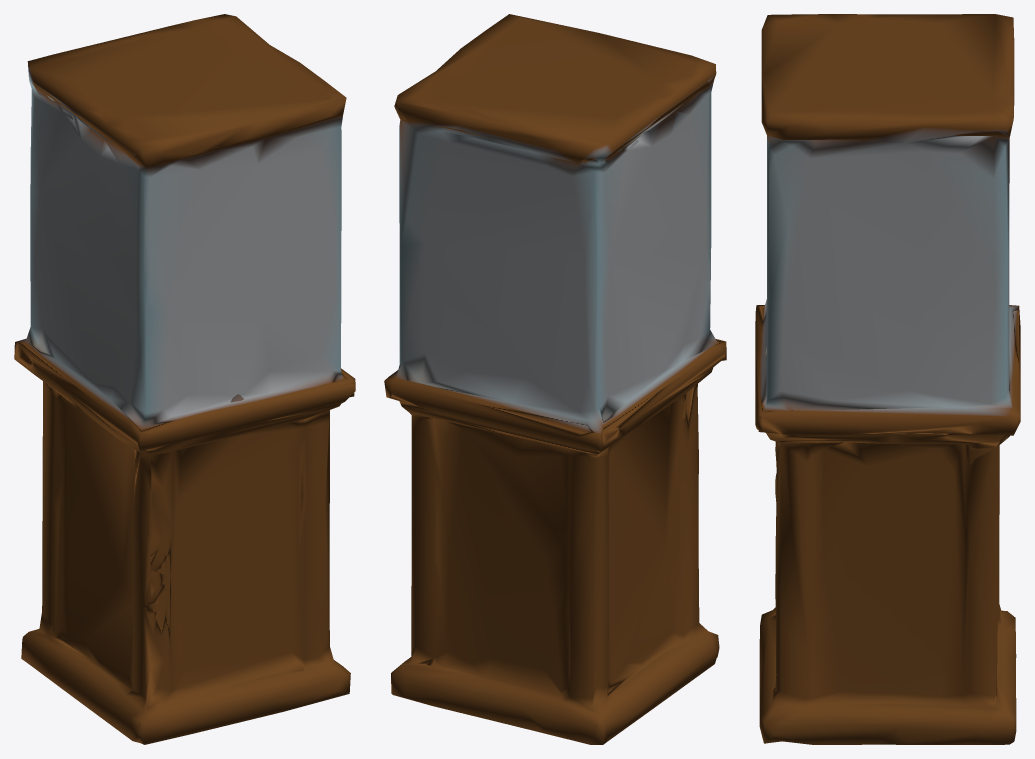
Rendered from gen3d-display-case-lod0.glb.
3 renders of one model, left to right at view 1: azimuth 30°, elevation 25°; view 2: azimuth 150°, elevation 25°; view 3: azimuth 270°, elevation 25°, orthographic. The views are drawn at different scales.
Parts seen in each view (by area): view 1: part_0; view 2: part_0; view 3: part_0.
Part boxes in pixels (bbox=[...]): part_0: bbox=[14, 14, 355, 744]; part_0: bbox=[384, 14, 726, 744]; part_0: bbox=[755, 14, 1020, 744].
Bounding box in the file's own units: 0.3843 × 0.9999 × 0.3845.
